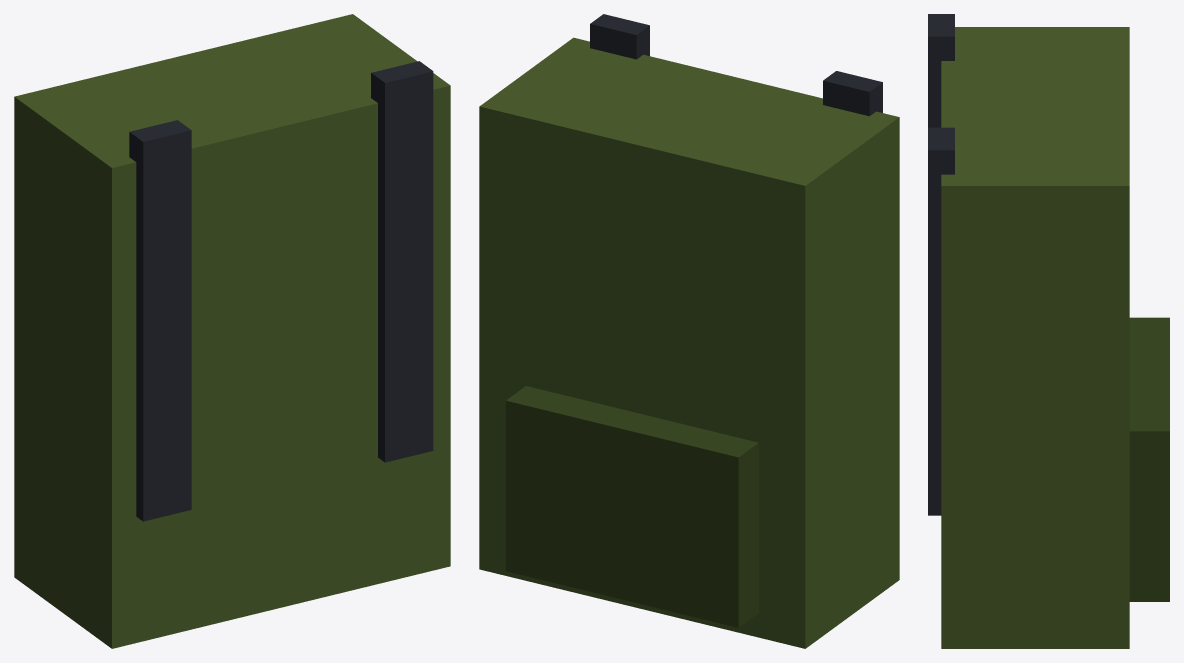
File: acc_backpack.glb
The picture shows the model from 3 angles, left to right: view 1: azimuth 30°, elevation 25°; view 2: azimuth 150°, elevation 25°; view 3: azimuth 270°, elevation 25°; orthographic projection. The views are drawn at different scales.
Parts seen in each view (by area): view 1: acc.backpack; view 2: acc.backpack; view 3: acc.backpack.
Part boxes in pixels (x1=…): acc.backpack: x1=14, y1=14, x2=450, y2=648; acc.backpack: x1=479, y1=14, x2=899, y2=648; acc.backpack: x1=928, y1=14, x2=1169, y2=648.
Size of the model in its own units: 0.28 by 0.4 by 0.18.
